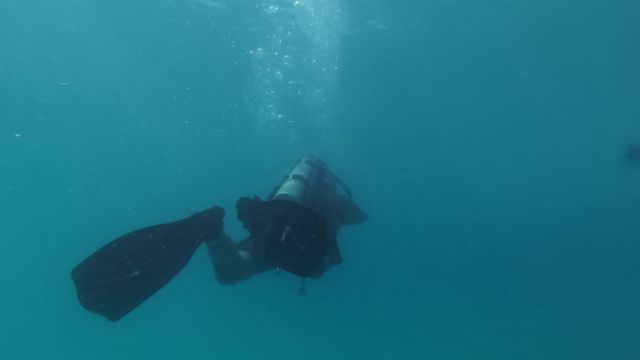Diver: (36, 114, 408, 350)
